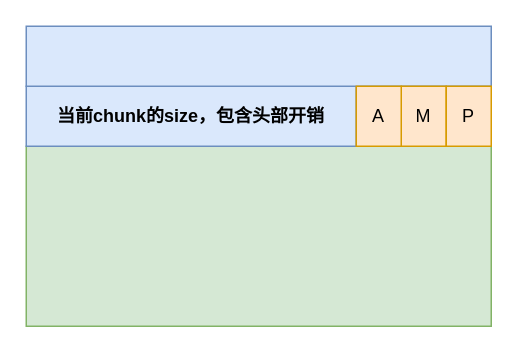
The diagram is 518 pixels wide and 353 high, and some of its shapes have lost their labels. The box of each missing label's shape, as (x1, y1, x2, y2) in pixels:
前一个chunk的size(如果其空闲): (25, 25, 491, 86)
实际用户数据部分 malloc_usable_size()返回该部分大小: (25, 145, 491, 326)
